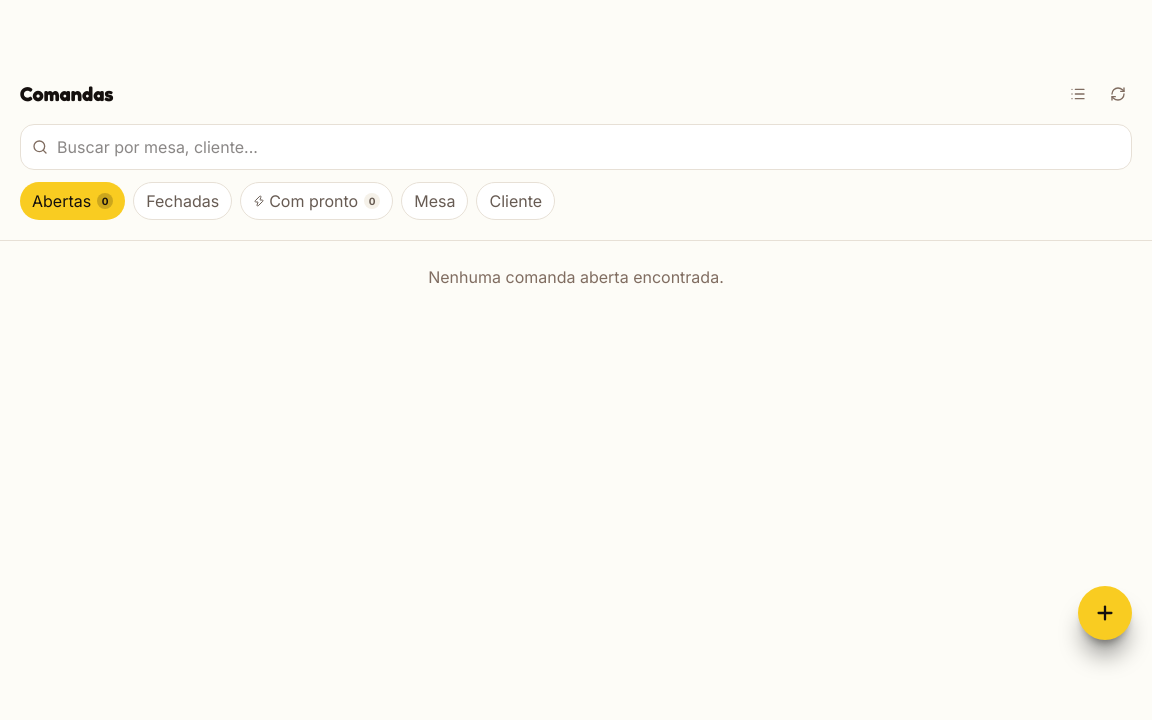
Test: OrderListScreen › menu de visualização abre e mostra opções
This screenshot has width=1152, height=720.
Step 1. Click the button named "Modo de visualização: Lista" → x=1078, y=94, box [1064, 80, 1092, 108]
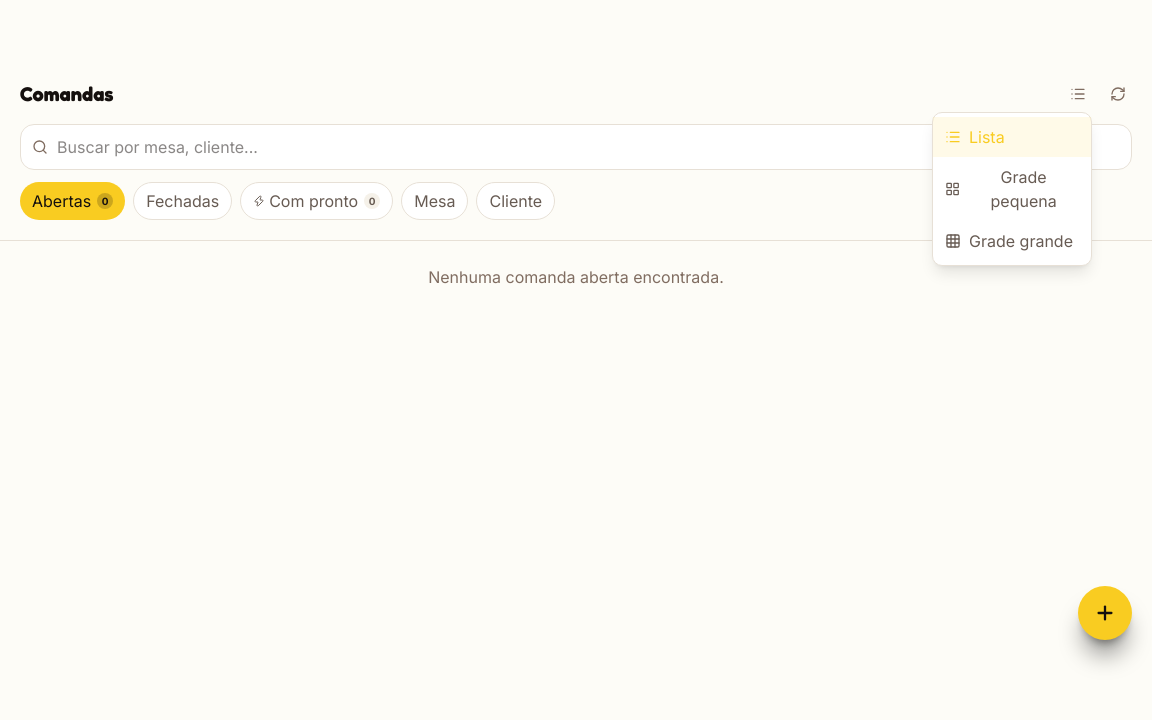
Now the menu item "Lista" is shown, box [933, 117, 1091, 157]
Now the menu item "Grade pequena" is shown, box [933, 157, 1091, 221]
Now the menu item "Grade grande" is shown, box [933, 221, 1091, 261]
